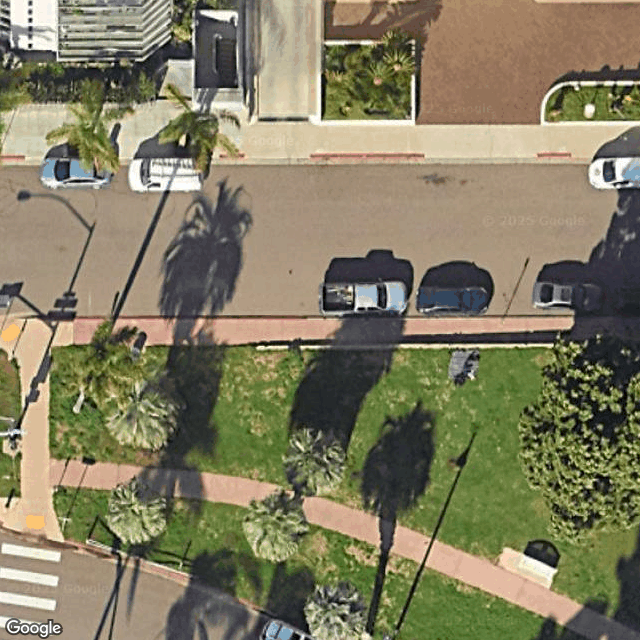palm: (156, 80, 248, 175), (45, 79, 130, 177), (100, 364, 190, 450), (71, 317, 154, 401), (96, 471, 177, 554), (281, 423, 358, 499), (241, 489, 312, 564), (294, 574, 366, 640)
